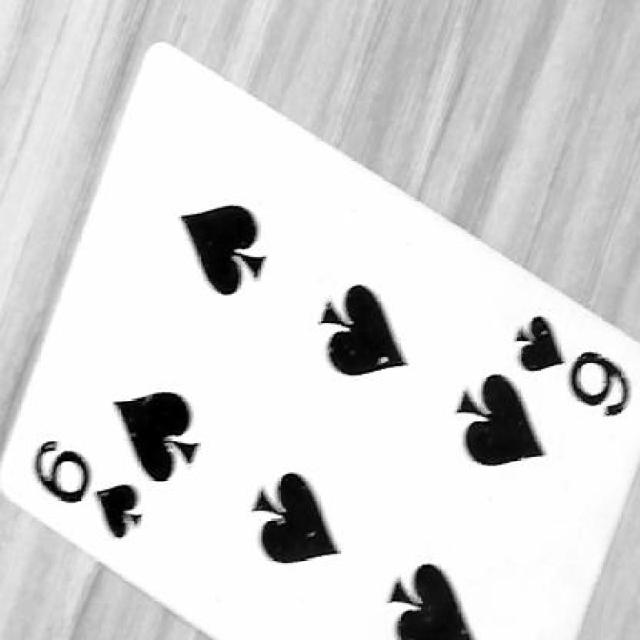6S: (485, 295, 633, 427), (28, 431, 148, 558)
